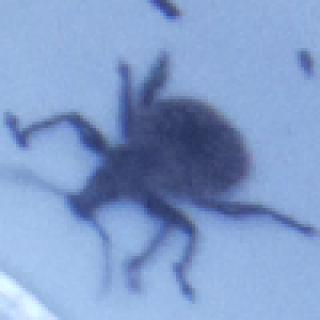bvw: (3, 51, 314, 304)
